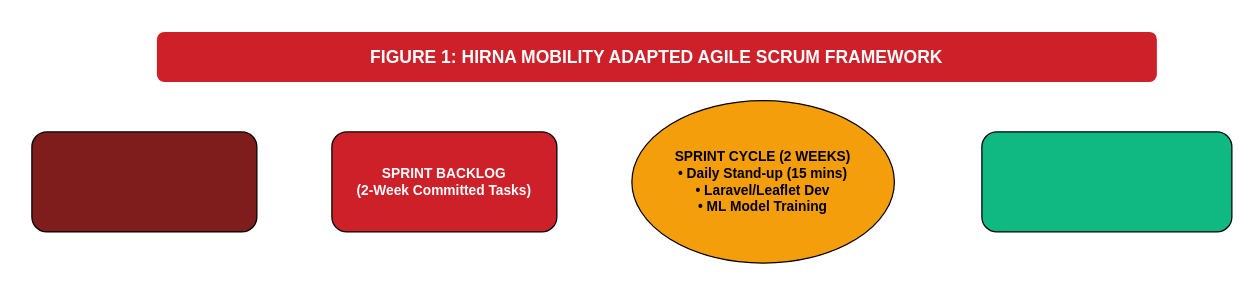
Image size: 1254x285. Some labels were removed from this diagram. The centre of each missing label's shape, as x and y in pixels:
"POTENTIALLY SHIPPABLE INCREMENT (Tested Portal Module)" goes at (1106,181).
"PRODUCT BACKLOG (Prioritized User Stories & API Features)" goes at (144,181).
